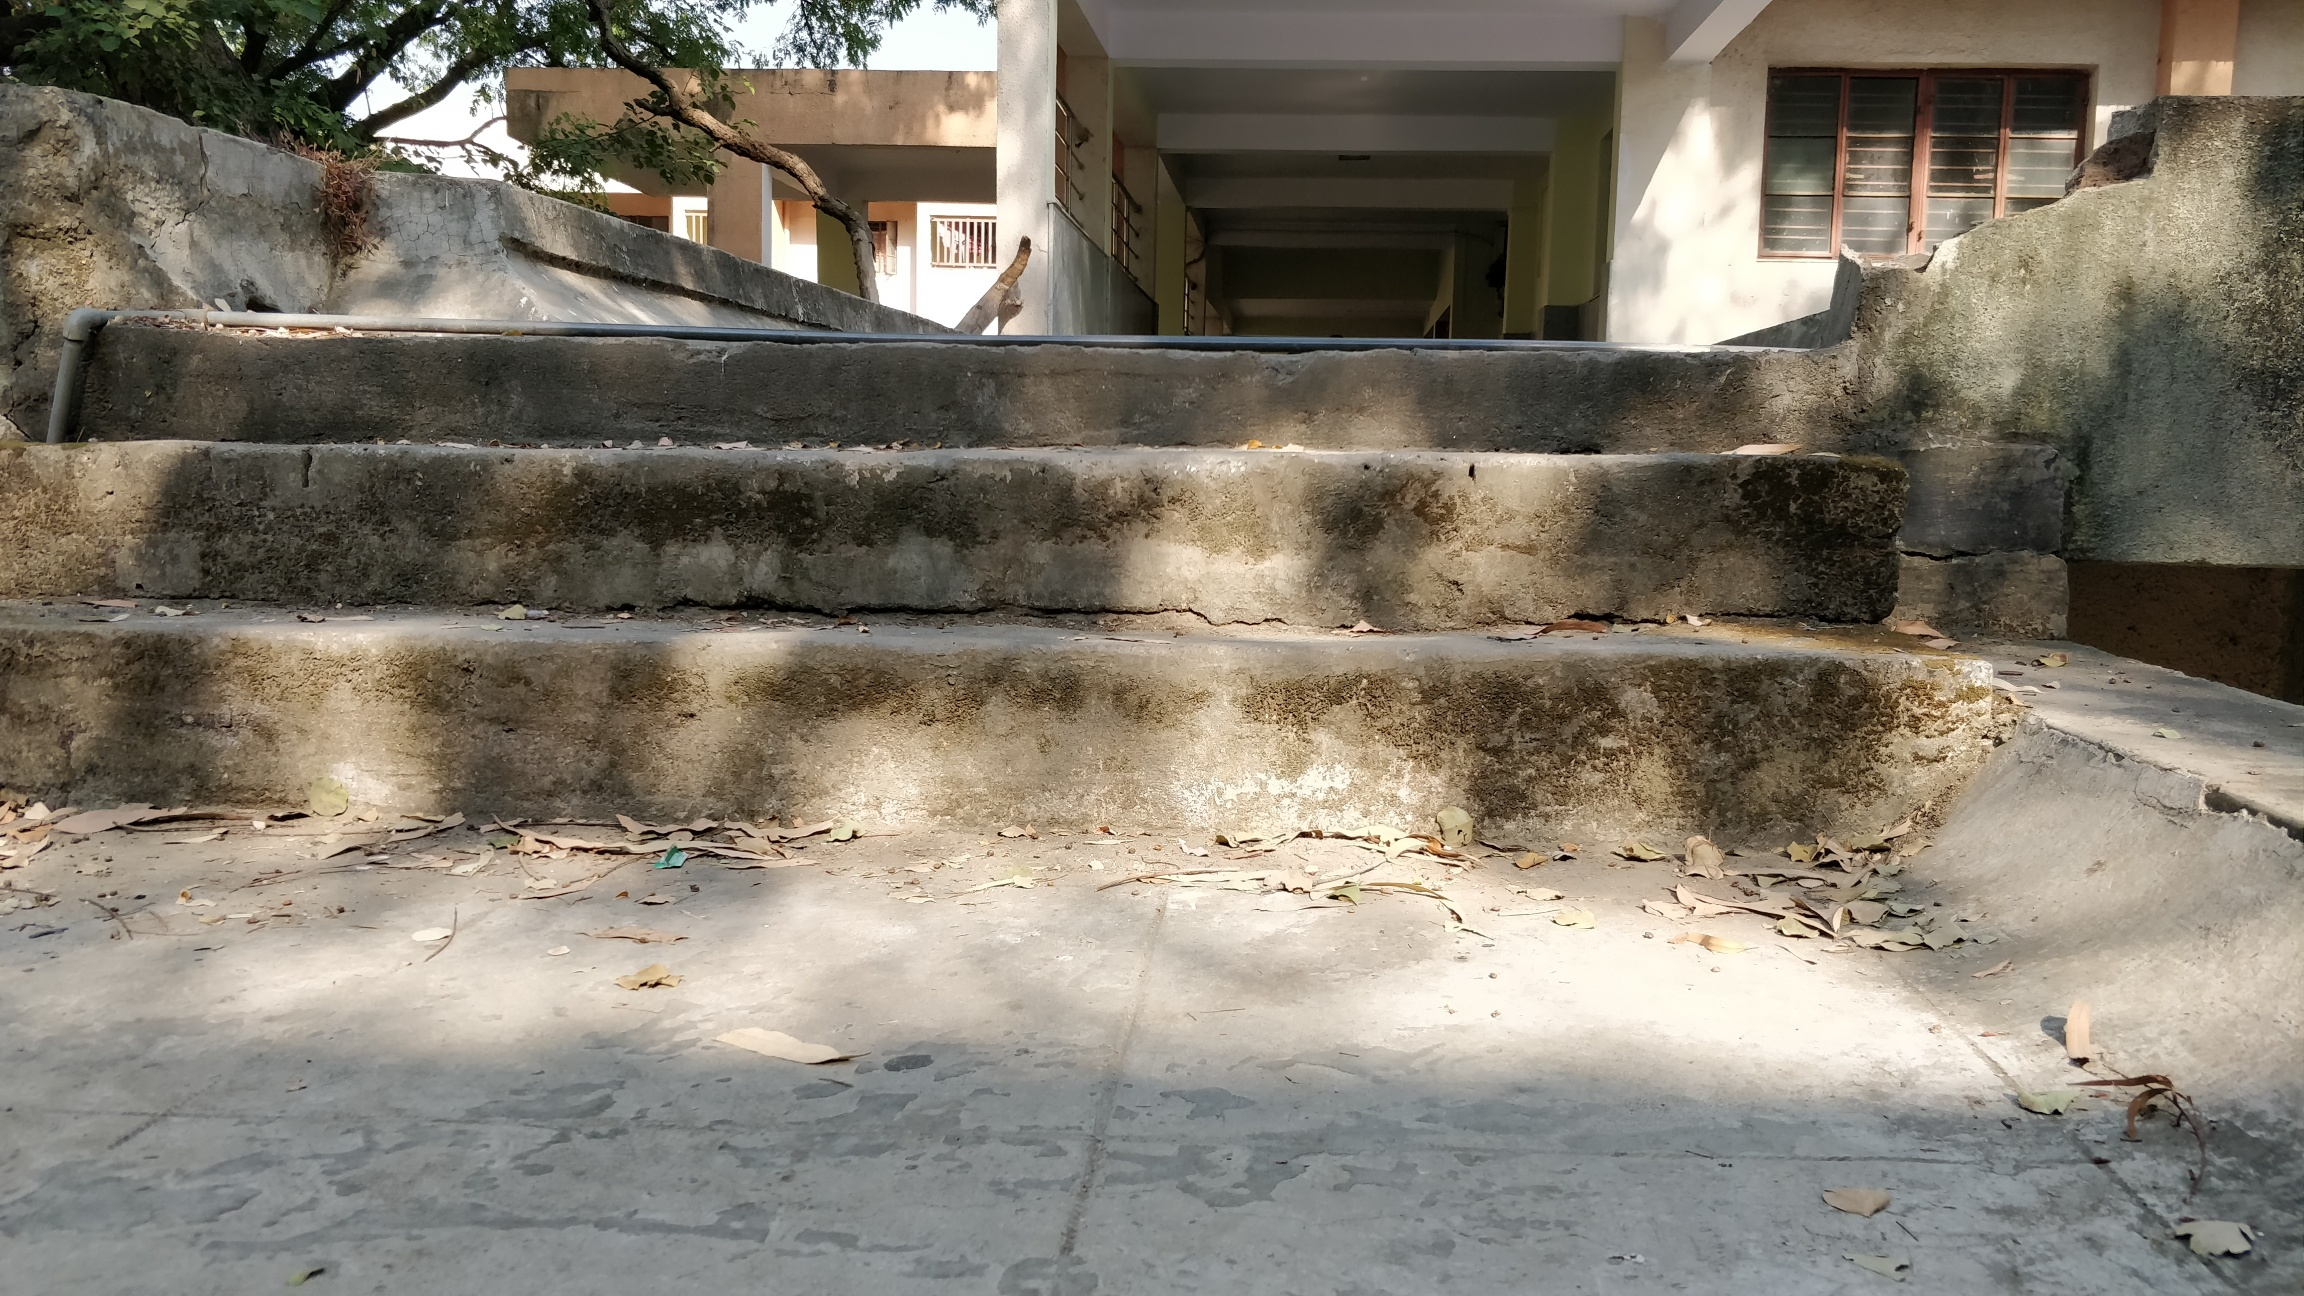stairs_up: (44, 312, 1912, 858)
